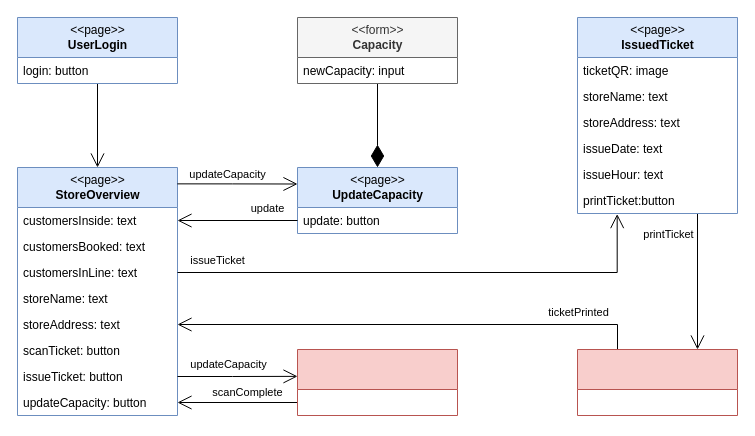
This 755x436 diagram has some shape labels left out. The centre of each missing label's shape, as x and y in pixels:
<<external>> Camera: point 377,382
<<external>> Printer: point 657,382
